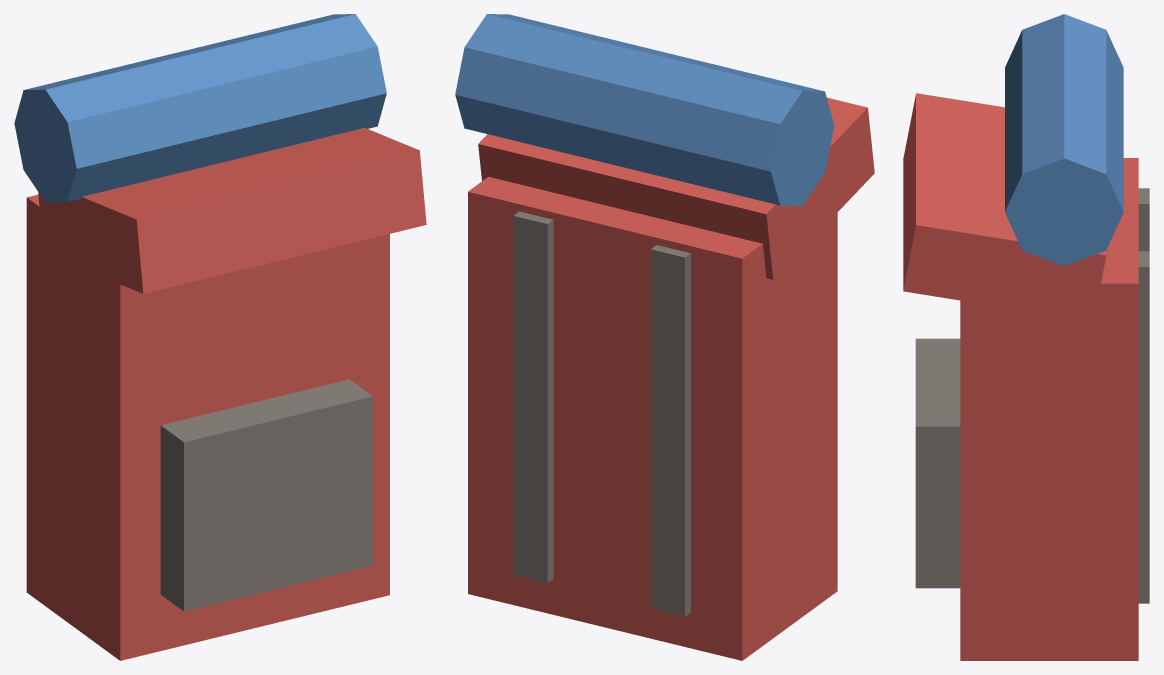
File: SM_Backpack.fbx
3 renders of one model, left to right at view 1: azimuth 30°, elevation 25°; view 2: azimuth 150°, elevation 25°; view 3: azimuth 270°, elevation 25°, orthographic. The views are drawn at different scales.
Parts seen in each view (by area): view 1: SM_Backpack; view 2: SM_Backpack; view 3: SM_Backpack.
Part boxes in pixels (x1=…): SM_Backpack: x1=14, y1=14, x2=426, y2=660; SM_Backpack: x1=455, y1=14, x2=874, y2=660; SM_Backpack: x1=903, y1=14, x2=1149, y2=660.
Bounding box in the file's own units: 0.46 × 0.76 × 0.3317.
